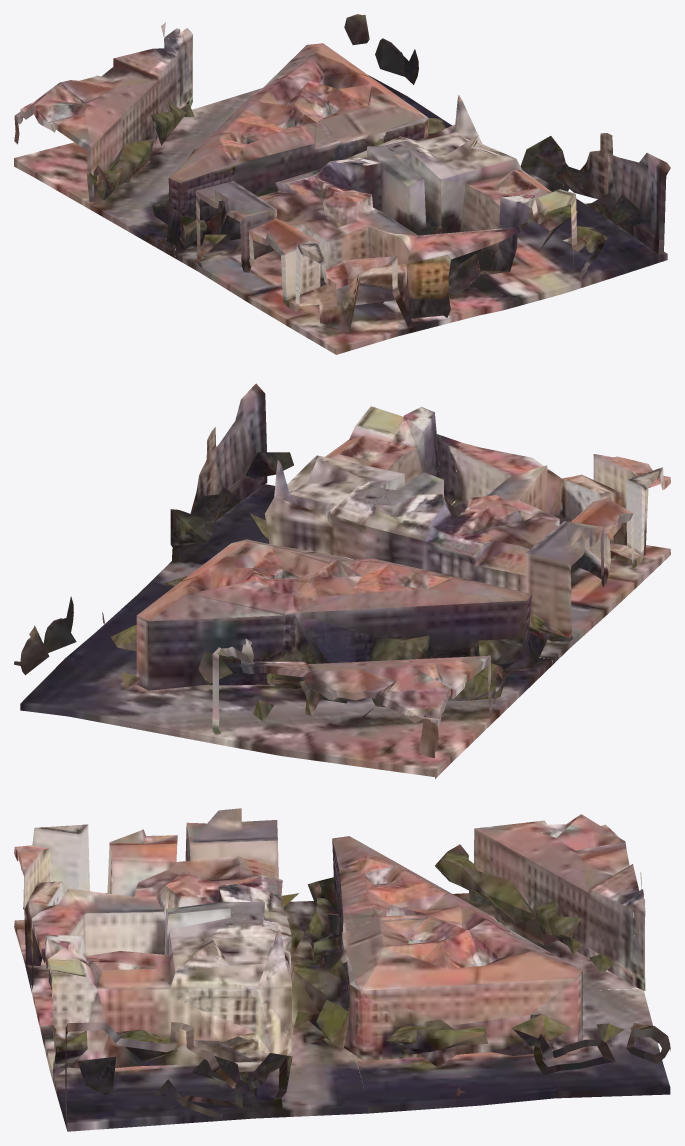
3 views of the same model, one above another, from view 1: azimuth 30°, elevation 25°; view 2: azimuth 150°, elevation 25°; view 3: azimuth 270°, elevation 25° (orthographic). The views are drawn at different scales.
Parts seen in each view (by area): view 1: Mesh_0; view 2: Mesh_0; view 3: Mesh_0.
Part boxes in pixels (x1,y1,x2,y2): Mesh_0: [14, 14, 670, 354]; Mesh_0: [14, 383, 670, 778]; Mesh_0: [14, 808, 670, 1131].
Bounding box in the file's own units: 134 × 39.01 × 165.
2 materials, 2 textured.
